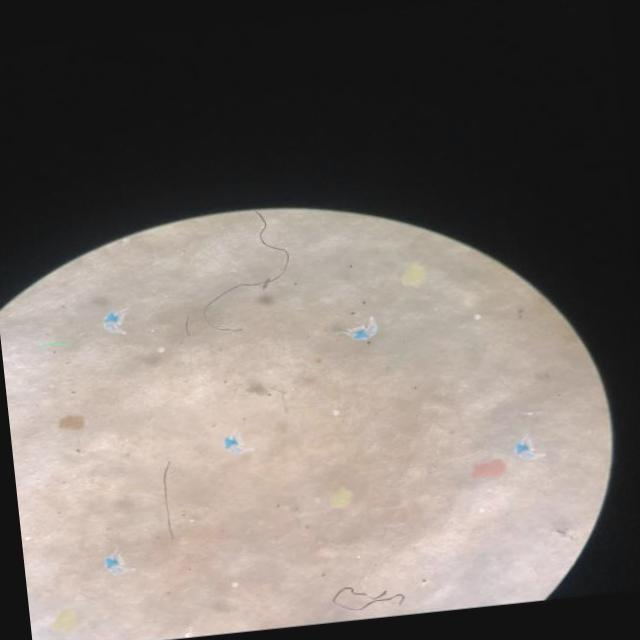fiber: (205, 211, 289, 312), (334, 586, 406, 610), (162, 462, 174, 536)
film: (350, 315, 378, 339), (104, 309, 122, 329), (515, 440, 534, 458), (225, 435, 241, 452), (105, 554, 121, 570)
fragment: (473, 458, 505, 476), (402, 262, 425, 285), (58, 414, 84, 430), (55, 609, 76, 628), (332, 487, 353, 506)
pellet: (474, 313, 480, 319), (334, 408, 340, 414), (159, 346, 164, 352), (479, 507, 485, 511), (233, 581, 237, 586)
